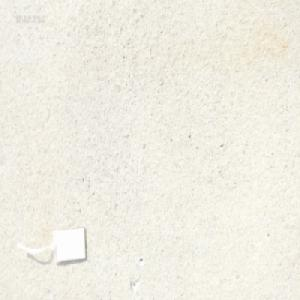LuggageTag: (15, 224, 89, 267)
